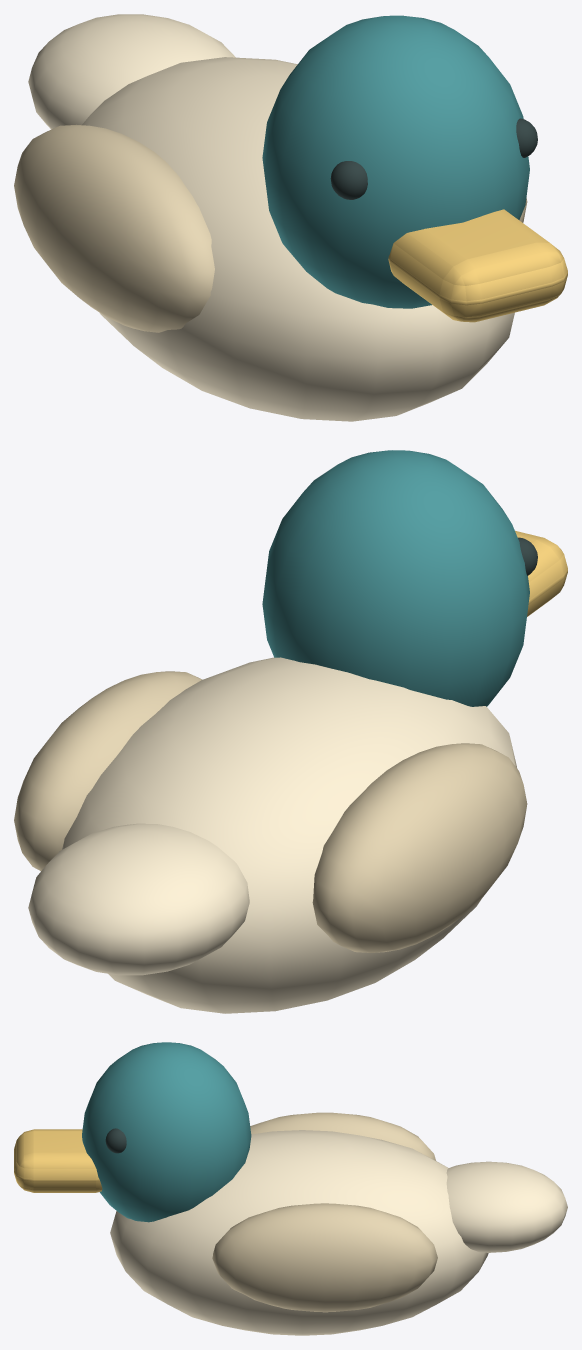
Rendered from duck.glb.
3 renders of one model, top to bottom at view 1: azimuth 30°, elevation 25°; view 2: azimuth 150°, elevation 25°; view 3: azimuth 270°, elevation 25°, orthographic. The views are drawn at different scales.
Parts seen in each view (by area): view 1: duck / material batches; view 2: duck / material batches; view 3: duck / material batches.
Part boxes in pixels (x1=…): duck / material batches: x1=14, y1=14, x2=567, y2=421; duck / material batches: x1=14, y1=450, x2=567, y2=1013; duck / material batches: x1=14, y1=1042, x2=567, y2=1335.
Size of the model in its own units: 0.54 by 0.53 by 0.98.
